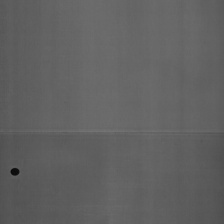punching_hole: (0, 122, 223, 140), (9, 165, 21, 178)
